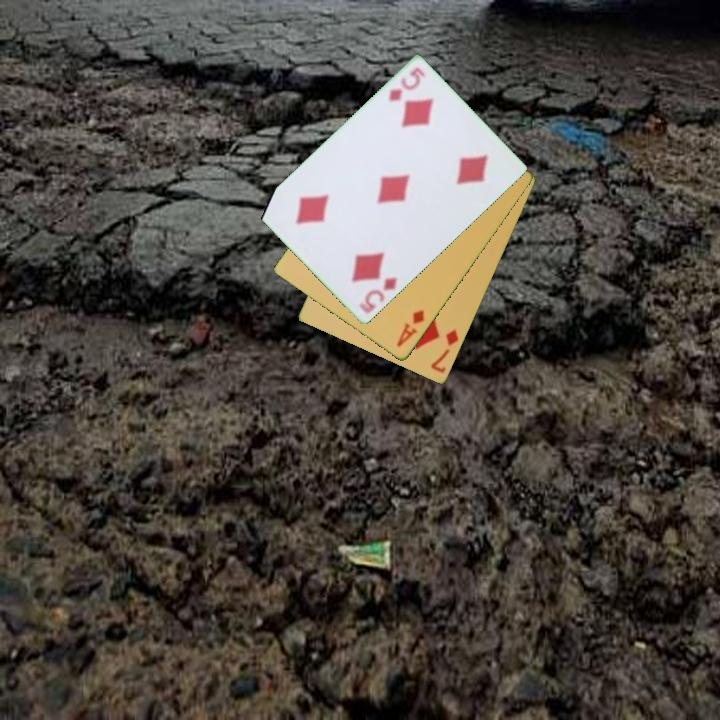5d: (355, 274, 401, 317), (385, 64, 428, 105)
7d: (427, 326, 462, 376)
Ad: (393, 306, 428, 350)
